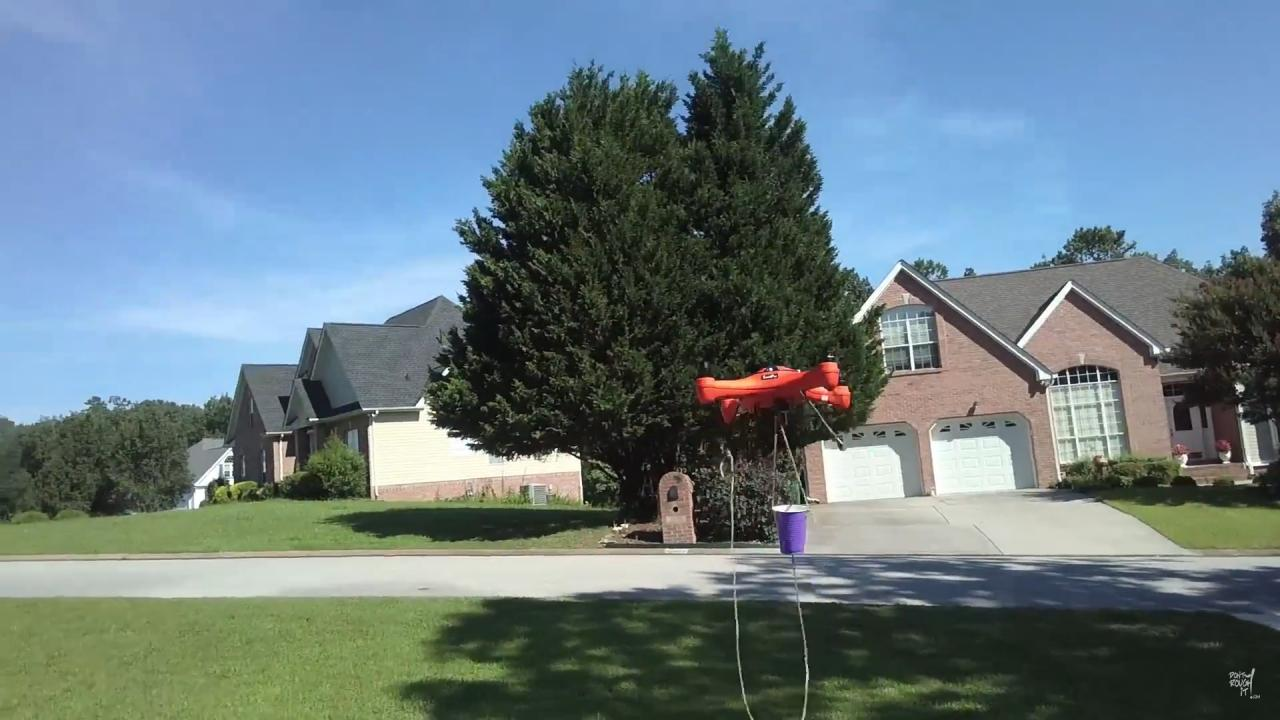Drone: (674, 339, 872, 438)
